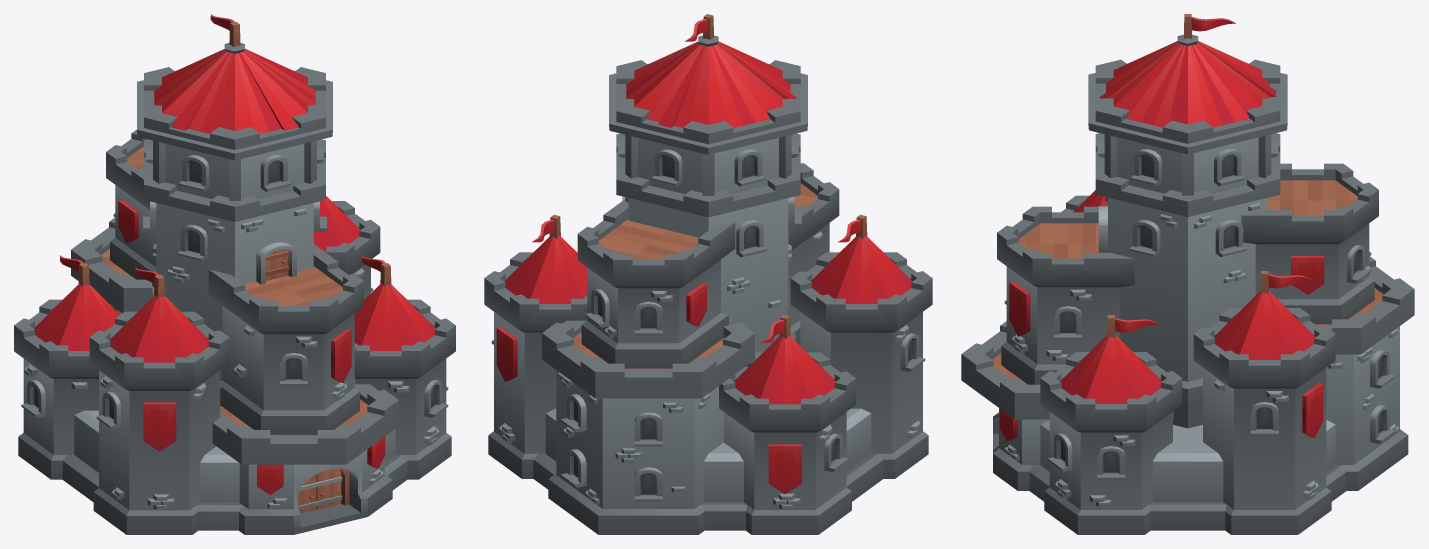
Rendered from base-rust.glb.
The picture shows the model from 3 angles, left to right: view 1: azimuth 30°, elevation 25°; view 2: azimuth 150°, elevation 25°; view 3: azimuth 270°, elevation 25°; orthographic projection.
Visible parts, largest first — view 1: building_castle_red; view 2: building_castle_red; view 3: building_castle_red.
Boxes of the visible parts, x1,y1,x2,y2 form: building_castle_red: (14, 14, 455, 534); building_castle_red: (484, 14, 932, 534); building_castle_red: (961, 14, 1414, 534).
Bounding box in the file's own units: 4.91 × 6 × 5.61.
Materials: 1 (1 with a texture image).
